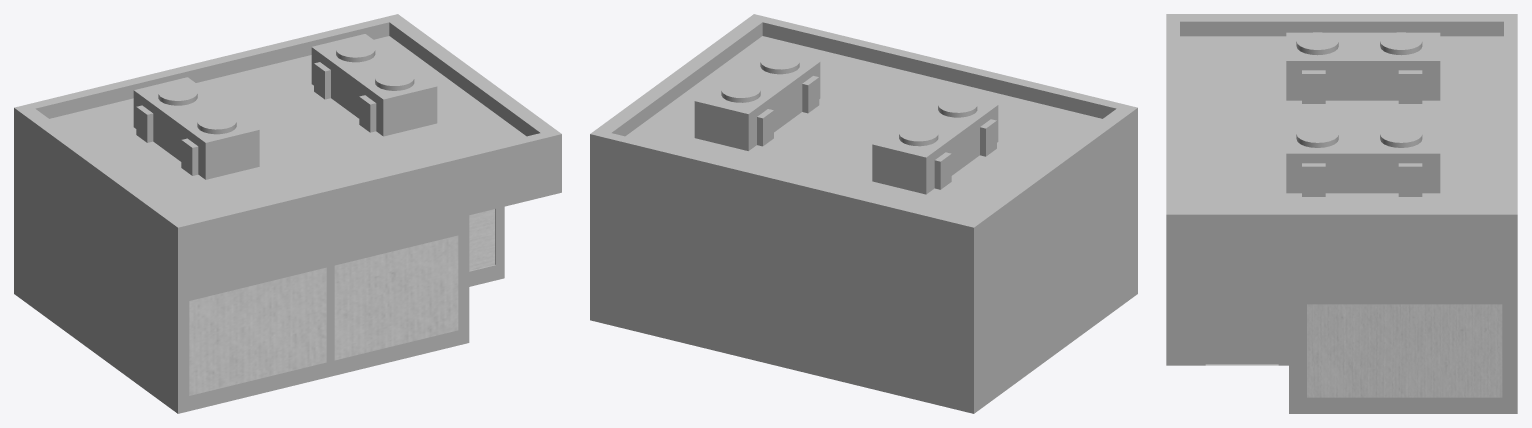
File: commerce_building_G.fbx
The picture shows the model from 3 angles, left to right: view 1: azimuth 30°, elevation 25°; view 2: azimuth 150°, elevation 25°; view 3: azimuth 270°, elevation 25°; orthographic projection. The views are drawn at different scales.
Parts seen in each view (by area): view 1: building_base, roof, windows, AC_units, AC_fans; view 2: building_base, roof, AC_units, AC_fans; view 3: building_base, roof, AC_units, windows, door, AC_fans.
Part boxes in pixels (x1,y1,x2,y2): building_base: (14, 14, 561, 413); roof: (50, 36, 526, 219); windows: (189, 209, 495, 395); AC_units: (133, 34, 437, 179); AC_fans: (158, 41, 414, 134); building_base: (590, 14, 1137, 413); roof: (625, 36, 1101, 219); AC_units: (694, 48, 998, 194); AC_fans: (721, 53, 977, 146); building_base: (1166, 14, 1517, 413); roof: (1180, 36, 1503, 206); AC_units: (1286, 32, 1440, 196); windows: (1307, 304, 1502, 397); door: (1205, 277, 1278, 364); AC_fans: (1296, 32, 1422, 147).
Size of the model in its own units: 1580 by 843 by 1169.
